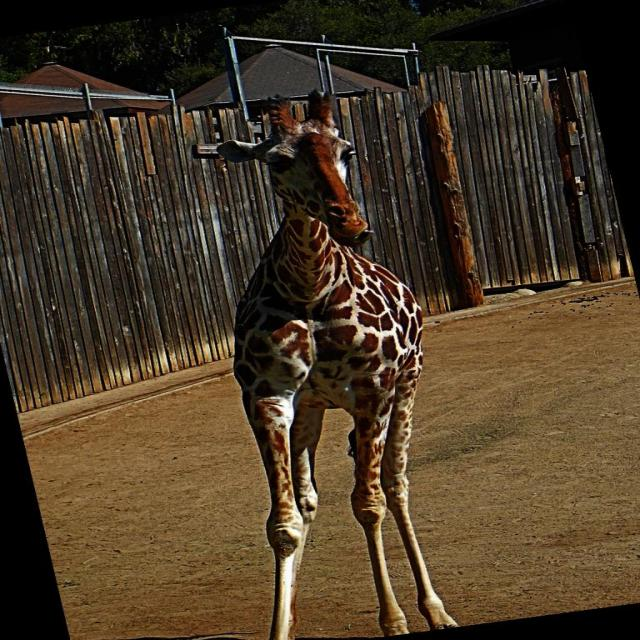Giraffe: (204, 89, 464, 640)
